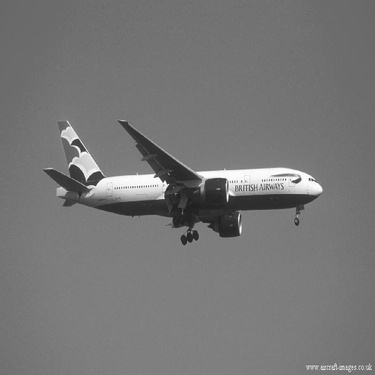airplane: (37, 109, 332, 254)
